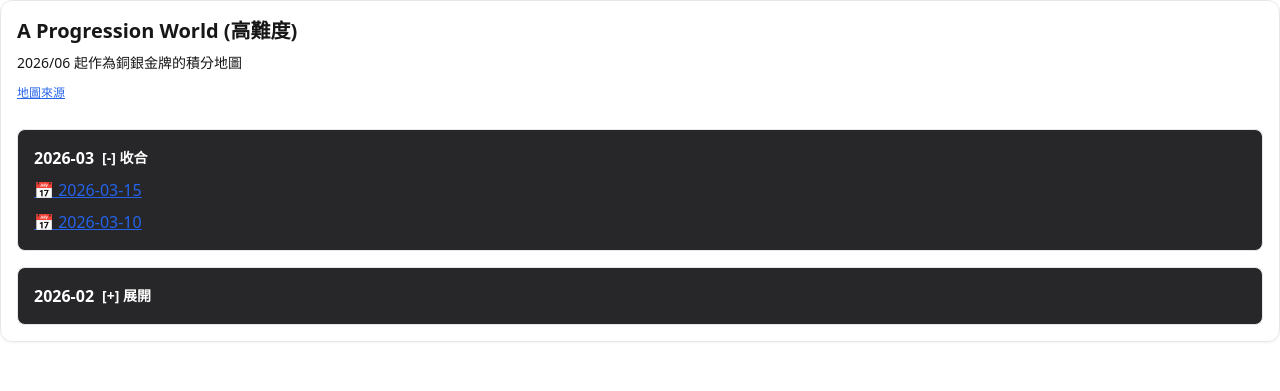
Test: CommonMapCard › toggles month expand/collapse on click
The width and height of the screenshot is (1280, 391).
// Click to toggle
Click the button "2026-02 [+] 展開".
click(92, 296)  # box [34,284,151,308]
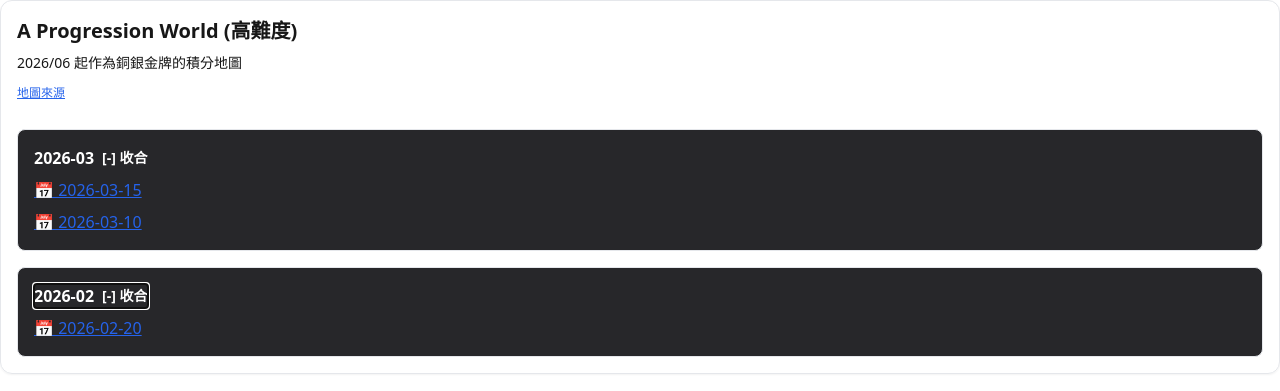
Result: the link "📅 2026-02-20" is shown at [34,316,142,340]
